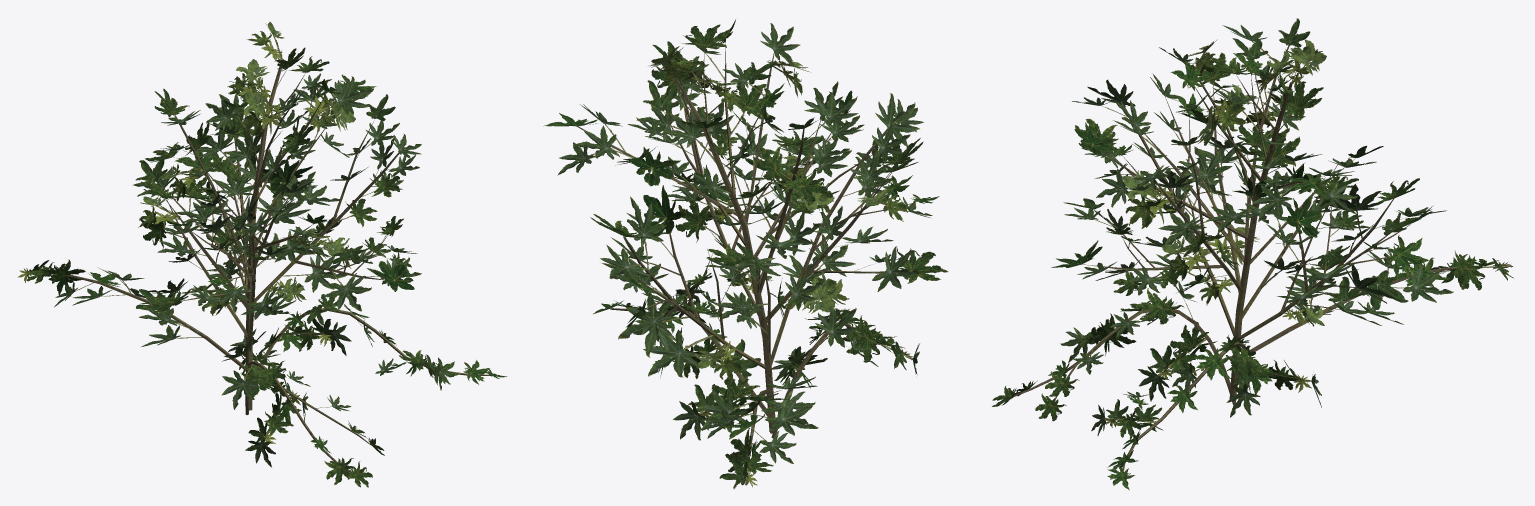
Rendered from s3dplants_pineshrub03.gltf.
The picture shows the model from 3 angles, left to right: view 1: azimuth 30°, elevation 25°; view 2: azimuth 150°, elevation 25°; view 3: azimuth 270°, elevation 25°; orthographic projection. The views are drawn at different scales.
Parts seen in each view (by area): view 1: S3DPlants_pineshrub03_leaves, S3DPlants_pineshrub03_trunk; view 2: S3DPlants_pineshrub03_leaves, S3DPlants_pineshrub03_trunk; view 3: S3DPlants_pineshrub03_leaves, S3DPlants_pineshrub03_trunk.
Boxes of the visible parts, x1,y1,x2,y2 form: S3DPlants_pineshrub03_leaves: (18, 22, 506, 487); S3DPlants_pineshrub03_trunk: (69, 63, 490, 472); S3DPlants_pineshrub03_leaves: (543, 19, 948, 489); S3DPlants_pineshrub03_trunk: (577, 40, 915, 444); S3DPlants_pineshrub03_leaves: (992, 18, 1513, 490); S3DPlants_pineshrub03_trunk: (1013, 45, 1454, 471).
Bounding box in the file's own units: 2.36 × 2.4 × 2.93.
2 materials, 2 textured.
